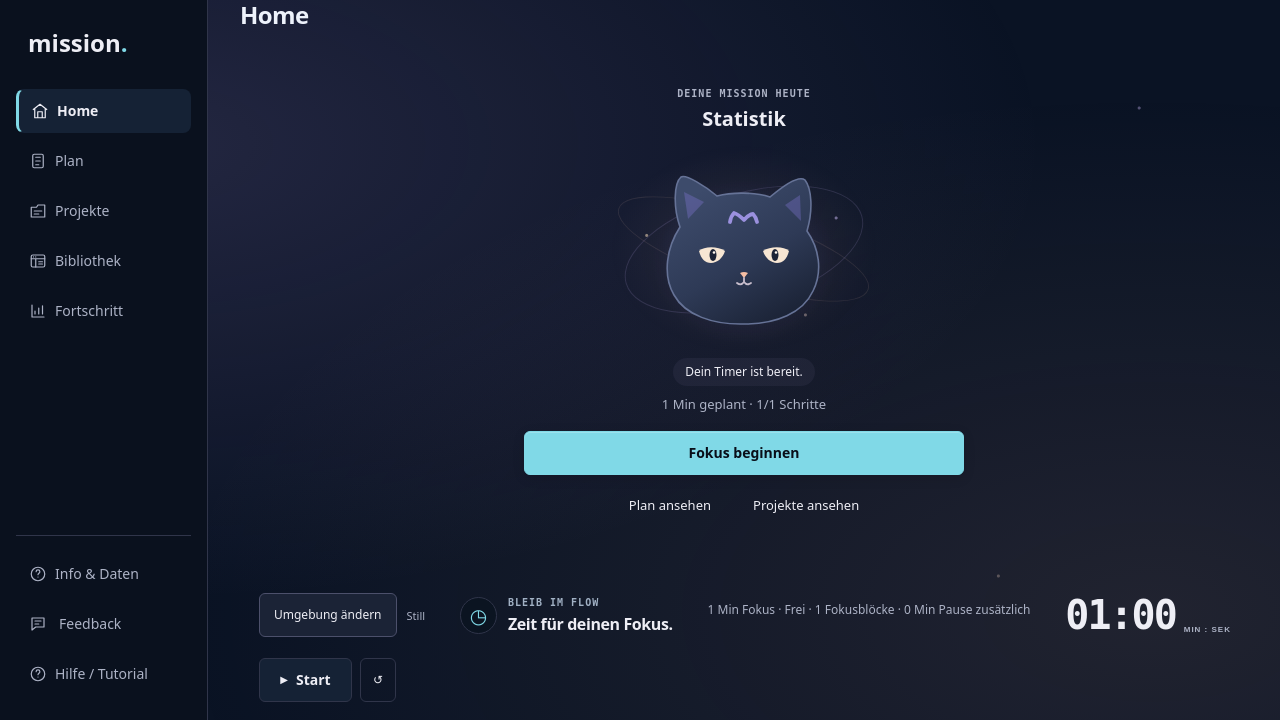
Test: Historie im Session-Lebenszyklus › verhindert Sessionstart und Vergütung bei einem Speicherfehler
The width and height of the screenshot is (1280, 720).
(page scrolled)
Click the button "▶ Start" at coordinates (306, 680), box 259,658 -> 352,702
Wait 250 ms
(page scrolled)
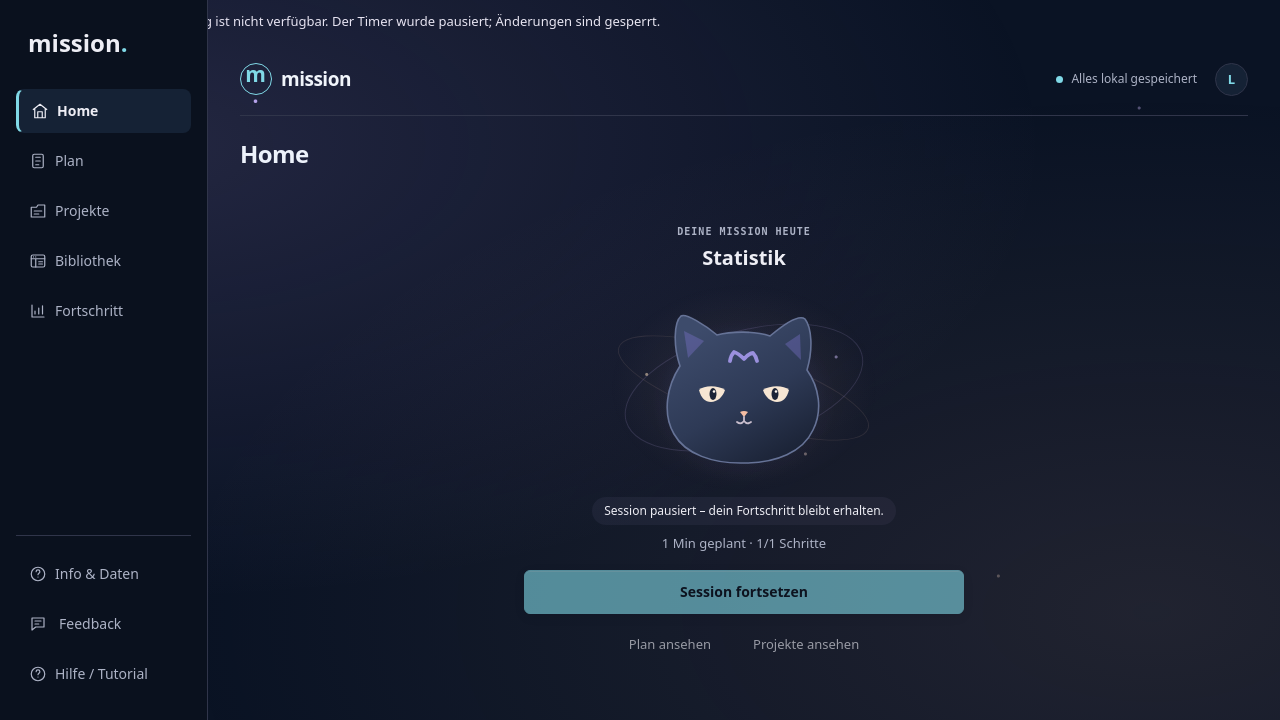
Check: the text "Die lokale Speicherung ist nicht verfügbar" is shown, box 72,12 -> 660,30
